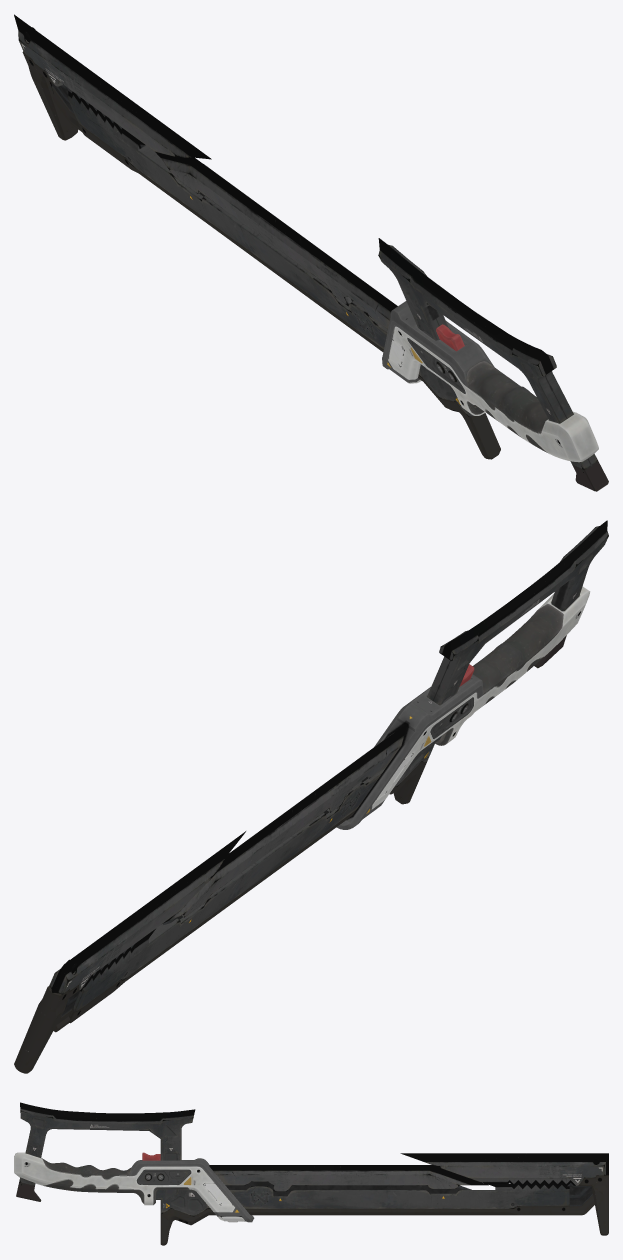
The picture shows the model from 3 angles, top to bottom: view 1: azimuth 30°, elevation 25°; view 2: azimuth 150°, elevation 25°; view 3: azimuth 270°, elevation 25°; orthographic projection. The views are drawn at different scales.
Parts seen in each view (by area): view 1: Object_4; view 2: Object_4; view 3: Object_4.
Part boxes in pixels (x1,y1,x2,y2): Object_4: (14, 14, 608, 491); Object_4: (14, 520, 608, 1073); Object_4: (14, 1102, 608, 1245).
Size of the model in its own units: 3.05 by 6.88 by 30.66.
Materials: 1 (1 with a texture image).
